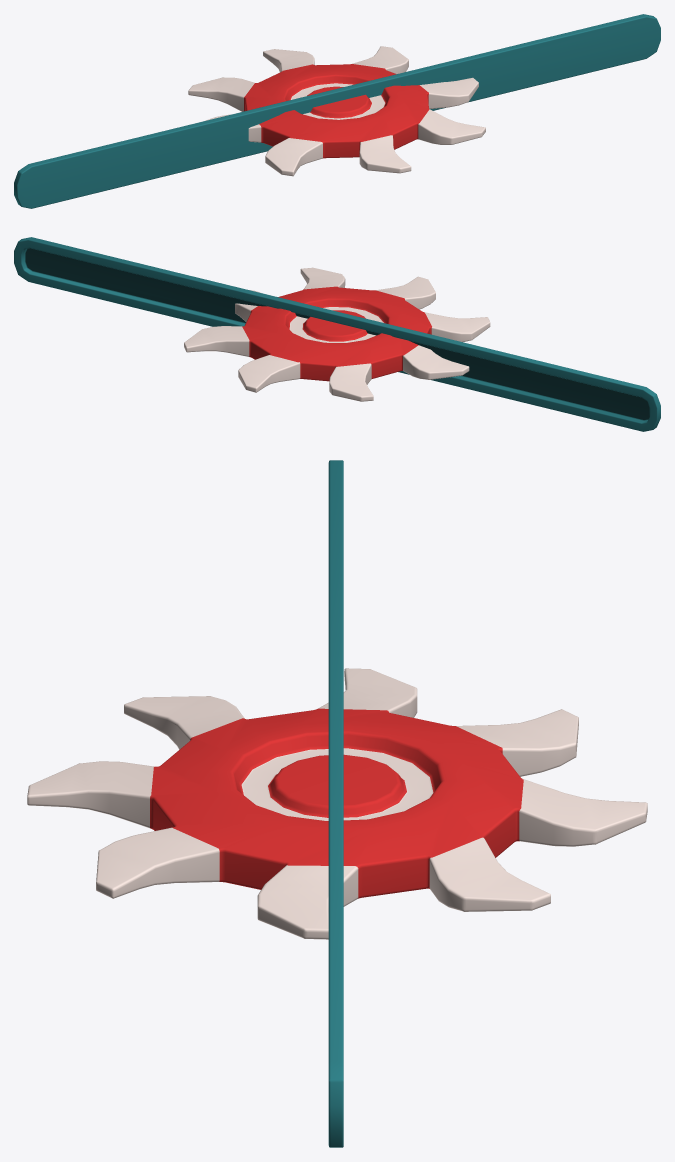
File: Cutter8.fbx
3 views of the same model, one above another, from view 1: azimuth 30°, elevation 25°; view 2: azimuth 150°, elevation 25°; view 3: azimuth 270°, elevation 25° (orthographic). The views are drawn at different scales.
Parts seen in each view (by area): view 1: Plane.001, Cylinder.016; view 2: Plane.001, Cylinder.016; view 3: Cylinder.016, Plane.001.
Boxes of the visible parts, x1=… form: Plane.001: x1=14, y1=14, x2=660, y2=208; Cylinder.016: x1=188, y1=46, x2=485, y2=176; Plane.001: x1=14, y1=237, x2=660, y2=431; Cylinder.016: x1=184, y1=267, x2=490, y2=401; Cylinder.016: x1=27, y1=668, x2=647, y2=939; Plane.001: x1=328, y1=460, x2=343, y2=1147.
Bounding box in the file's own units: 7.99 × 0.5037 × 3.33.
